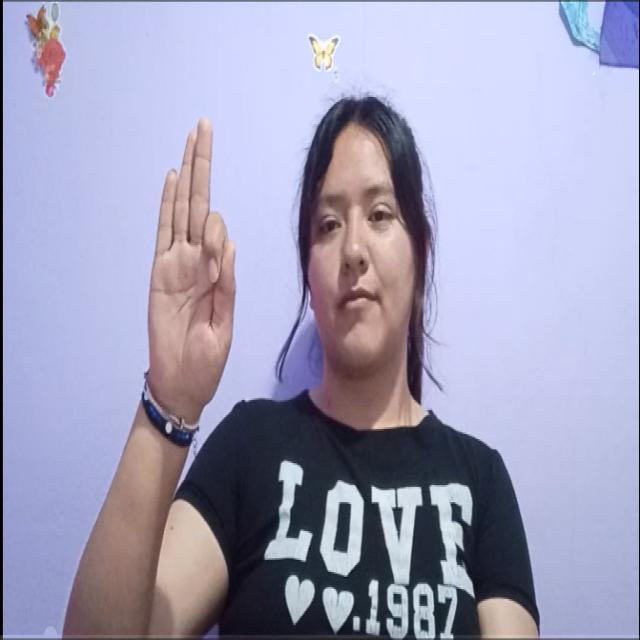F: (136, 119, 262, 411)
